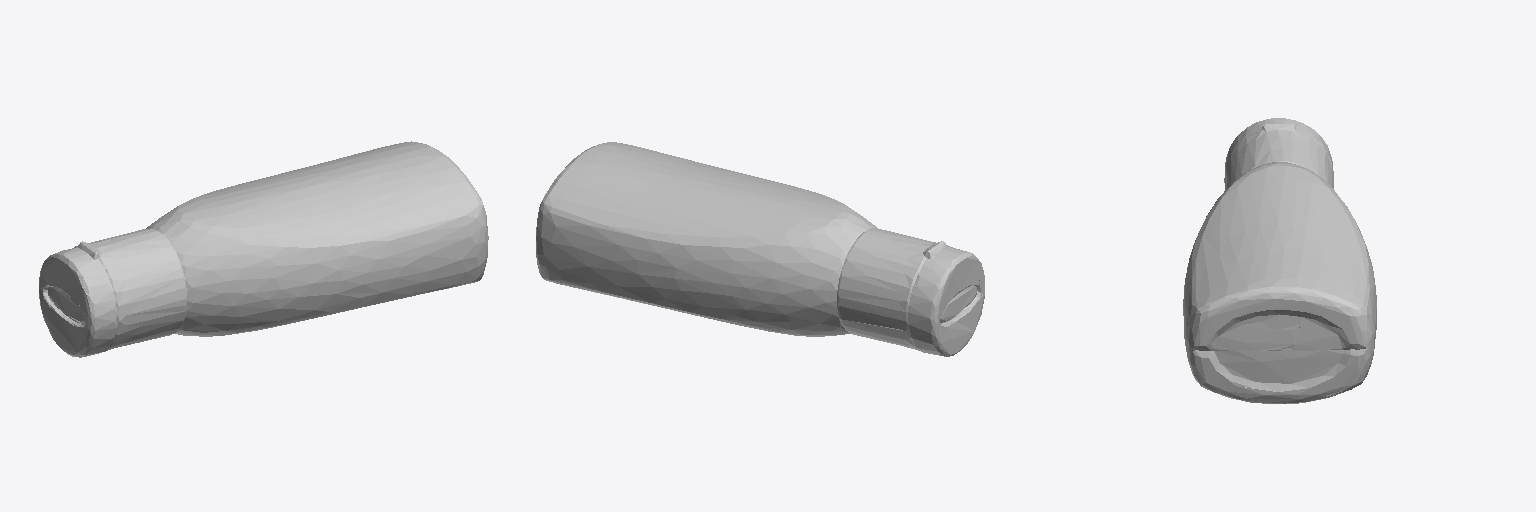
Rendered from Ketchup_sim.obj.
3 renders of one model, left to right at view 1: azimuth 30°, elevation 25°; view 2: azimuth 150°, elevation 25°; view 3: azimuth 270°, elevation 25°, orthographic.
Parts seen in each view (by area): view 1: textured; view 2: textured; view 3: textured.
Part boxes in pixels (x1,y1,x2,y2): textured: (39,141,488,357); textured: (536,142,984,356); textured: (1183,118,1376,403).
Bounding box in the file's own units: 0.1486 × 0.0434 × 0.0645.